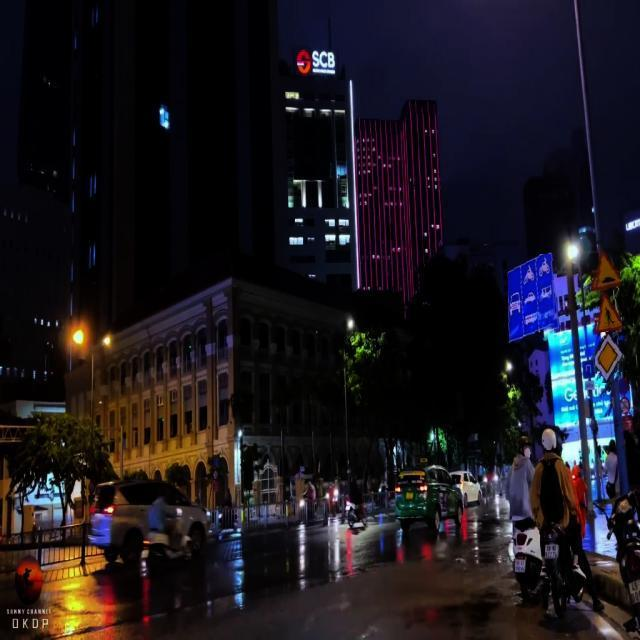221-duong-go-ghe: (590, 247, 622, 289)
224-duong-nguoi-di-bo-cat-ngang: (594, 294, 624, 332)
